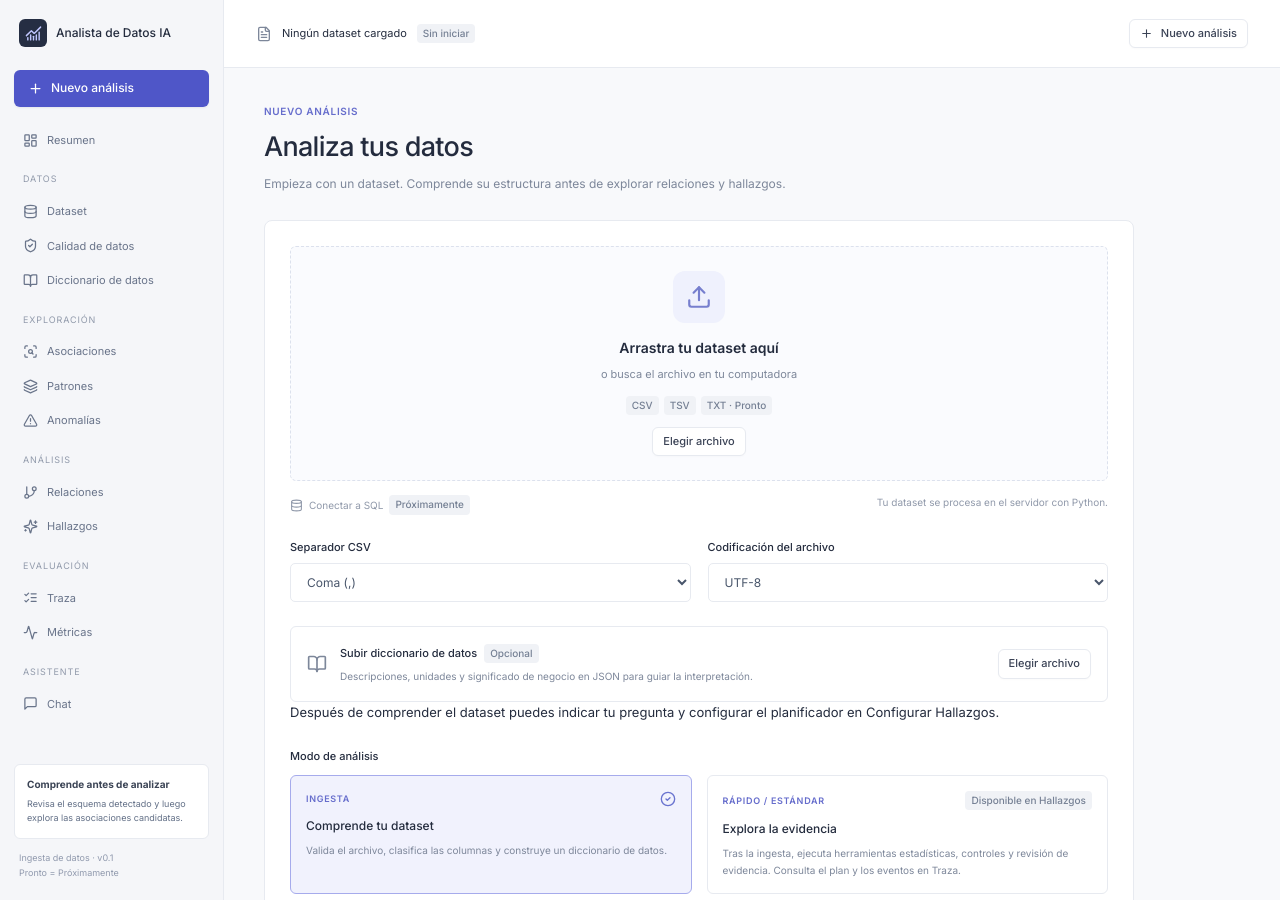
preserves the restored available capabilities and links to Hallazgos
Check: the text "Tu dataset se procesa en el servidor con Python." is shown, box [877,495,1108,515]
Check: the text "Disponible en Hallazgos" is shown, box [965,791,1092,810]
Click the link "Configurar Hallazgos" at (931, 712), box [866,704,995,720]
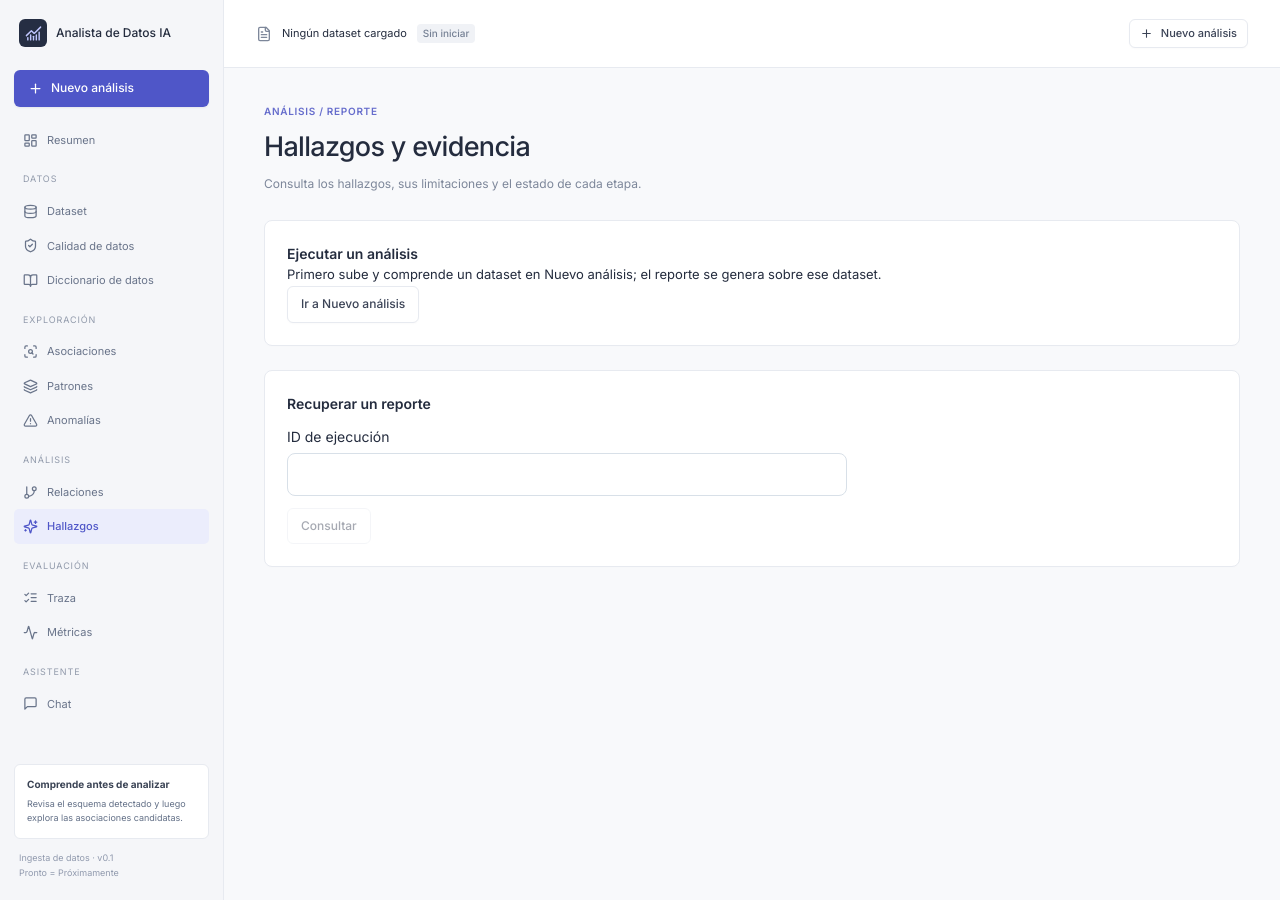
Check: the heading "Hallazgos y evidencia" is shown, box [264,130,530,162]
